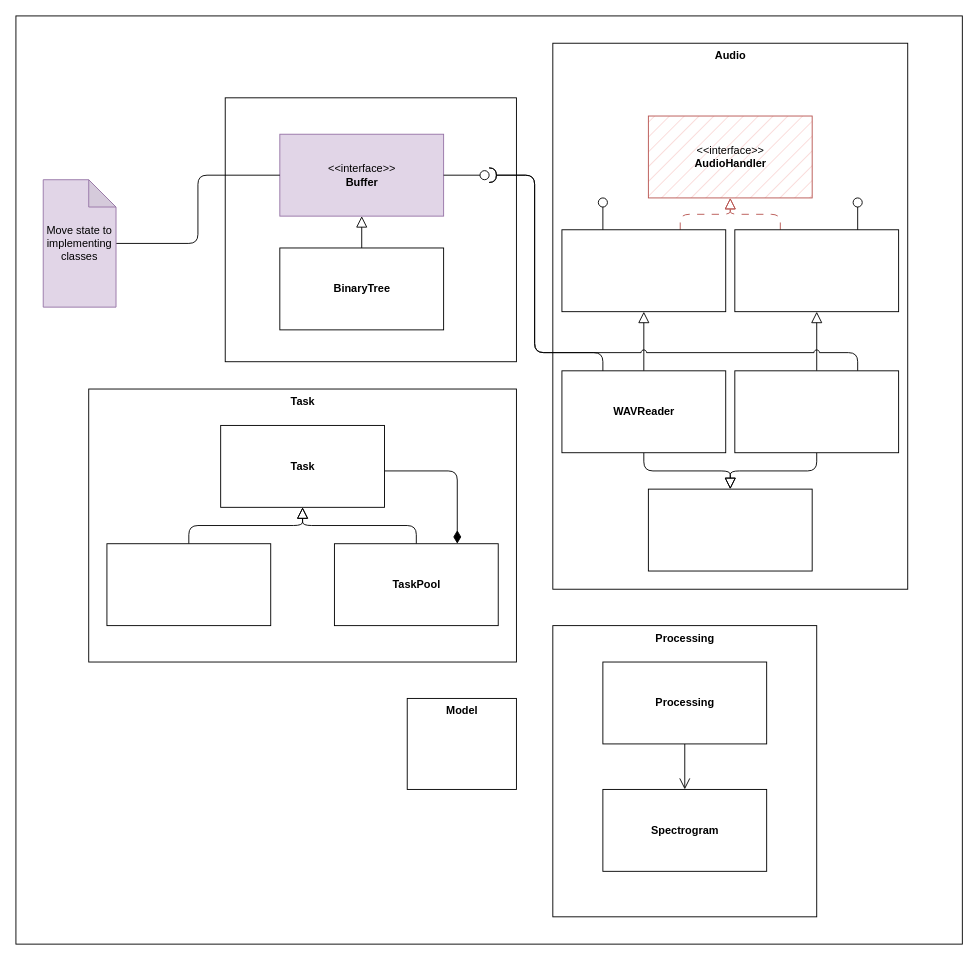
The diagram is 978 pixels wide and 960 high, and some of its shapes have lost their labels. Here are the shapes that lost their labels. From the top down, the box of each, then its label:
(224, 97, 516, 362): Data
(561, 229, 726, 312): <<interface>> AudioReader
(734, 229, 899, 312): <<interface>> AudioWriter
(734, 370, 899, 453): WAVWriter
(647, 488, 812, 571): WAV
(106, 543, 271, 626): FunctionTask
